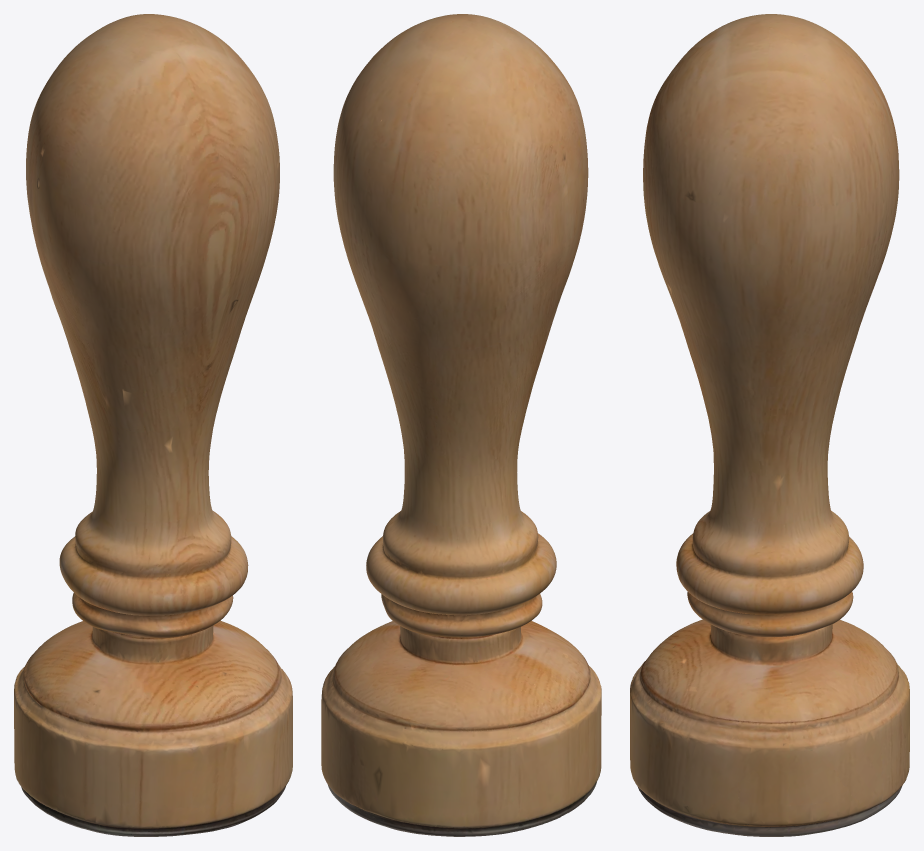
Rendered from Meshy_AI_Wooden_stamp_handle_0323005436_texture.glb.
3 renders of one model, left to right at view 1: azimuth 30°, elevation 25°; view 2: azimuth 150°, elevation 25°; view 3: azimuth 270°, elevation 25°, orthographic.
Size of the model in its own units: 0.6644 by 2 by 0.667.
Materials: 1 (1 with a texture image).
